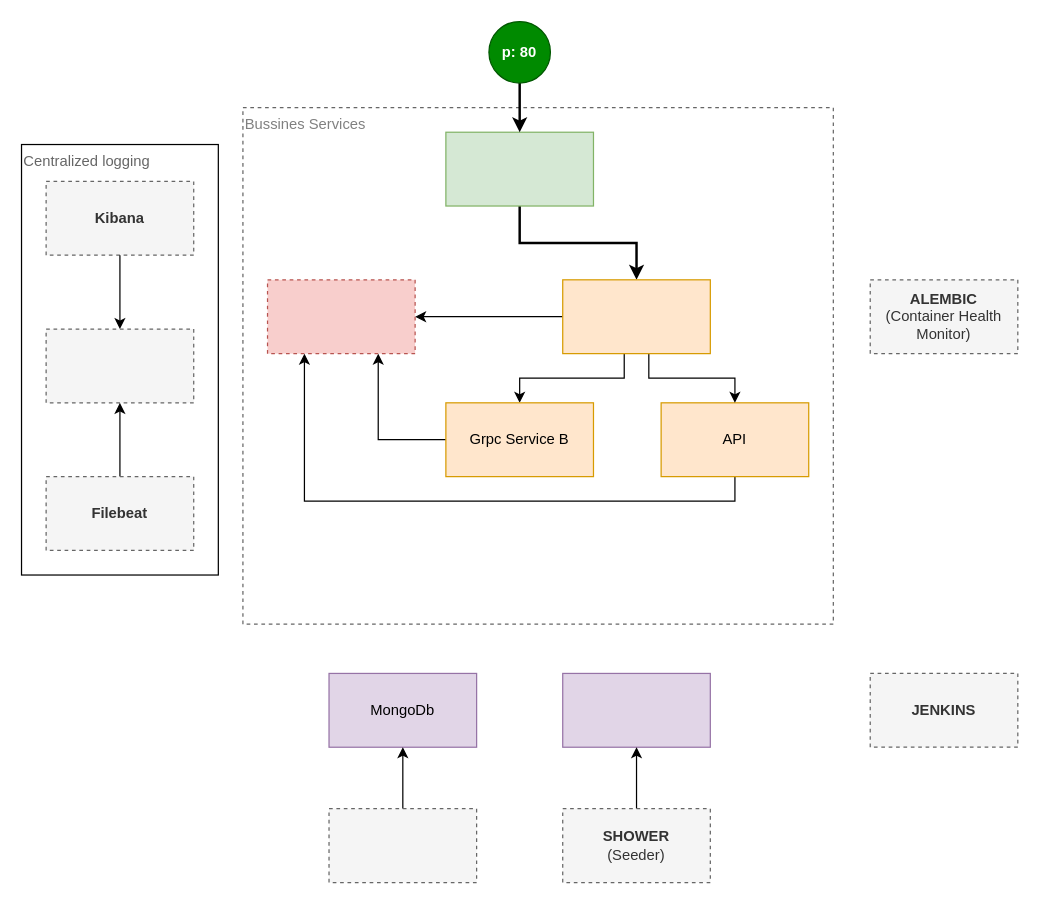
Some shapes in this 1039 by 904 pixel diagram are drawn without their labels. Each missing label, with the centre of its shape:
ElasticSearch: point (119, 365)
RAT (Configuration cache): point (340, 316)
Rest Api: point (635, 316)
SqlServer: point (635, 709)
TRAEFIK: point (519, 168)
UNICORN (Seeder): point (402, 845)
